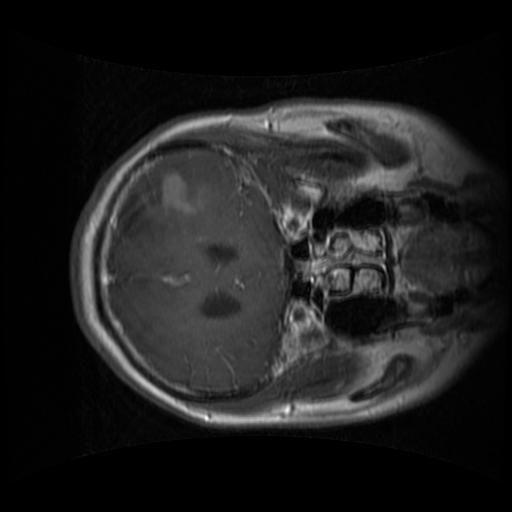glioma: (113, 168, 211, 246)
